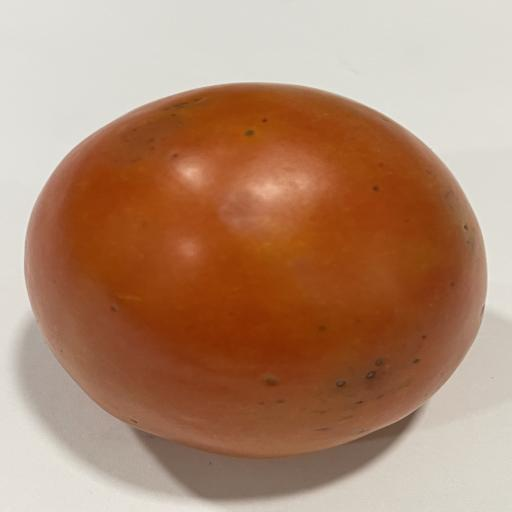ripe: (25, 84, 486, 458)
